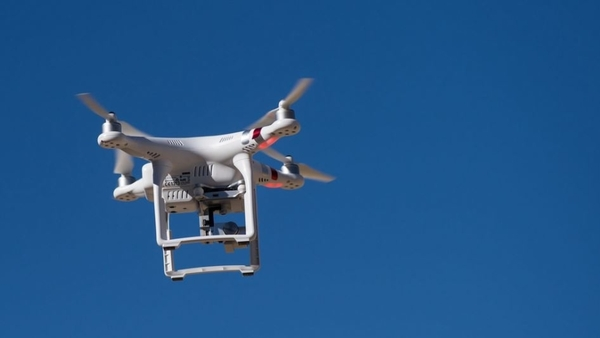drone: (74, 76, 337, 283)
